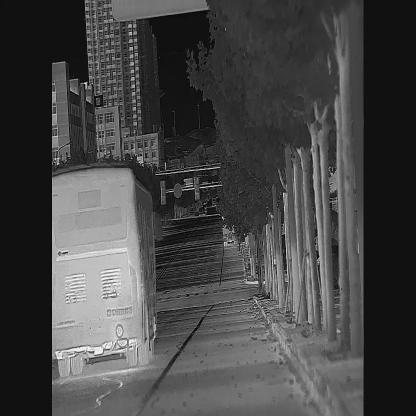car: (53, 166, 159, 369), (222, 215, 239, 246), (199, 206, 205, 216), (211, 197, 216, 207), (190, 208, 194, 217)
